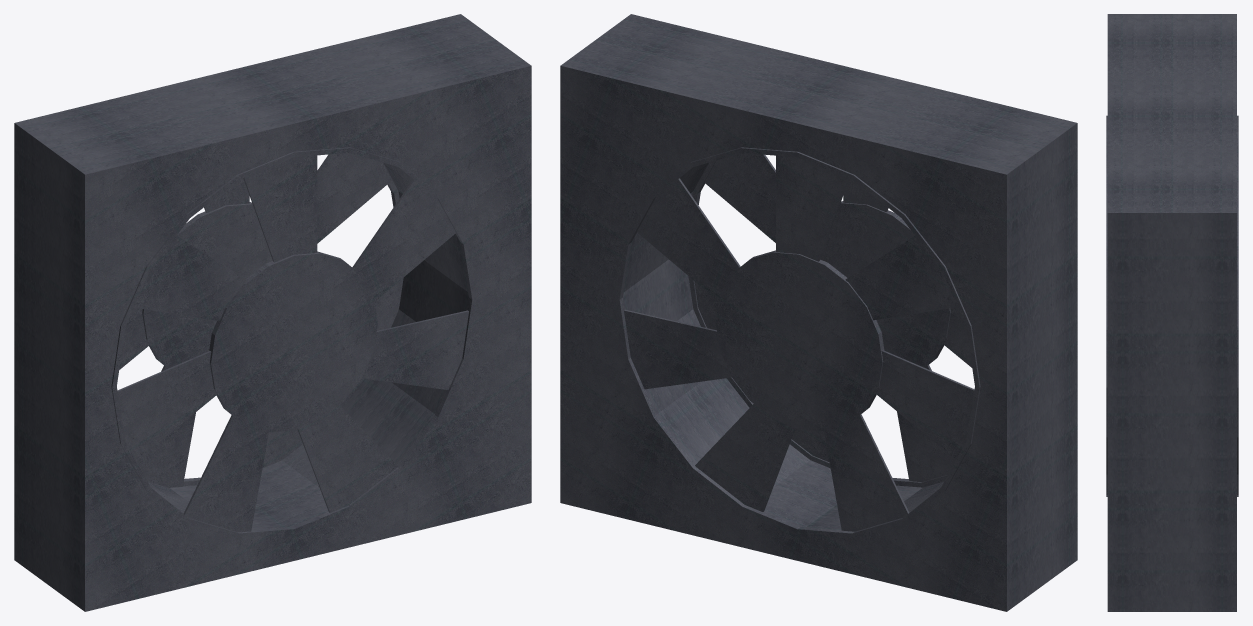
The model's file is fengji.FBX.
3 renders of one model, left to right at view 1: azimuth 30°, elevation 25°; view 2: azimuth 150°, elevation 25°; view 3: azimuth 270°, elevation 25°, orthographic. The views are drawn at different scales.
Parts seen in each view (by area): view 1: FS; view 2: FS; view 3: FS.
Boxes of the visible parts, left/top/right/bottom form: FS: left=14, top=14, right=531, bottom=611; FS: left=560, top=14, right=1077, bottom=611; FS: left=1106, top=14, right=1238, bottom=611.
Size of the model in its own units: 1.34 by 1.26 by 0.3782.
Materials: 1 (1 with a texture image).
